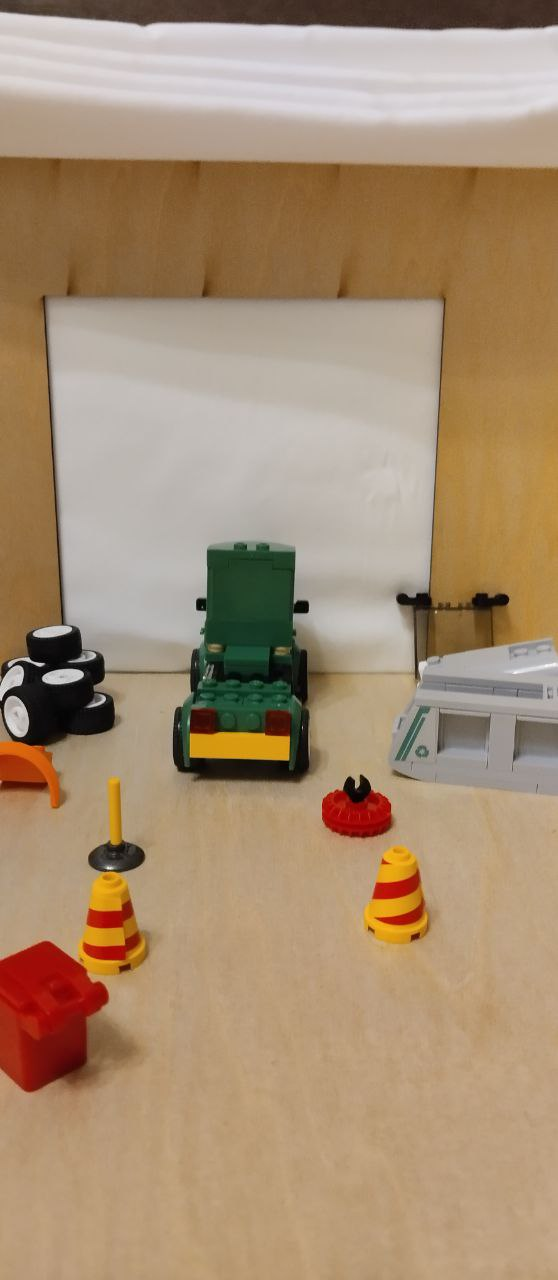Cone: (355, 846, 440, 947), (73, 871, 152, 978)
Object Red: (0, 940, 119, 1098)
Truck: (165, 535, 339, 788)
